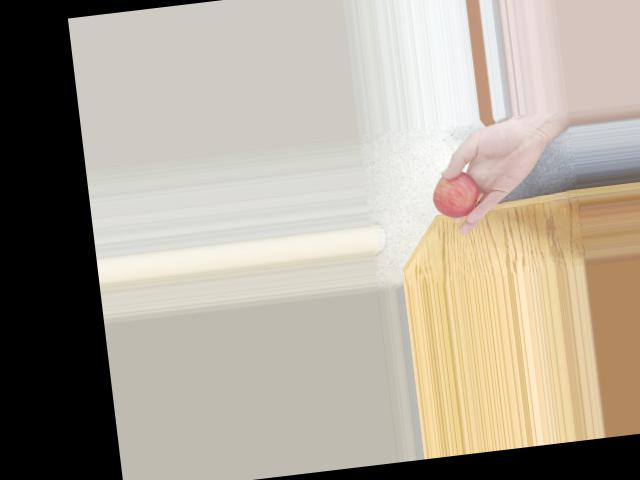apple: (430, 168, 484, 220)
